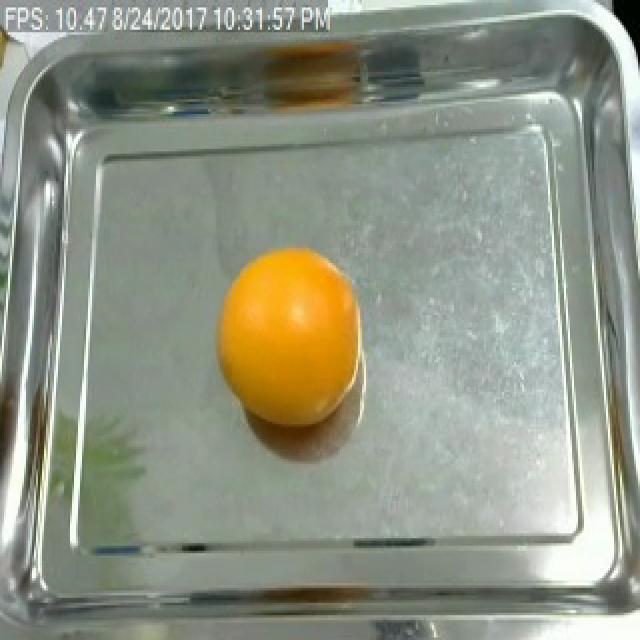Fruit: (208, 241, 370, 429), (0, 3, 18, 114)
